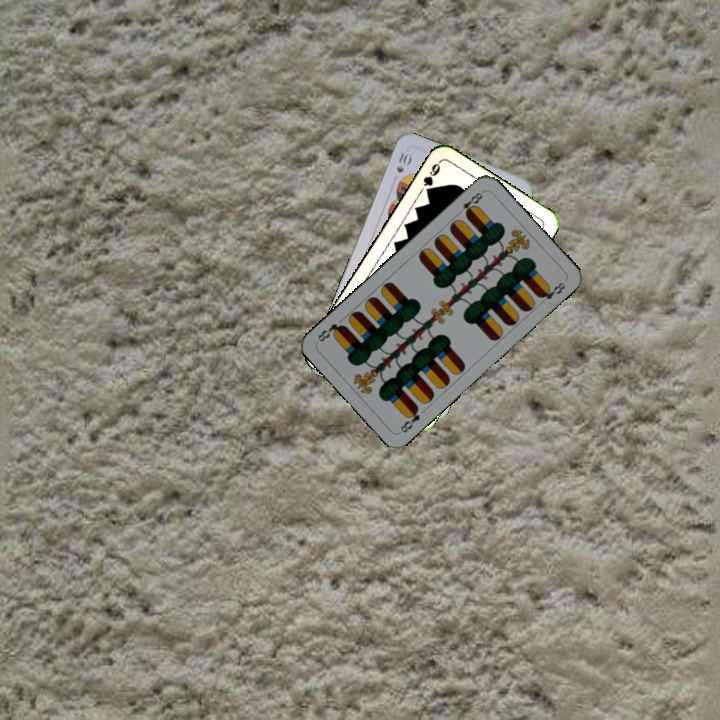E8: (458, 187, 486, 219), (396, 402, 423, 435)
G9: (419, 158, 443, 198)
S10: (392, 148, 414, 176)
